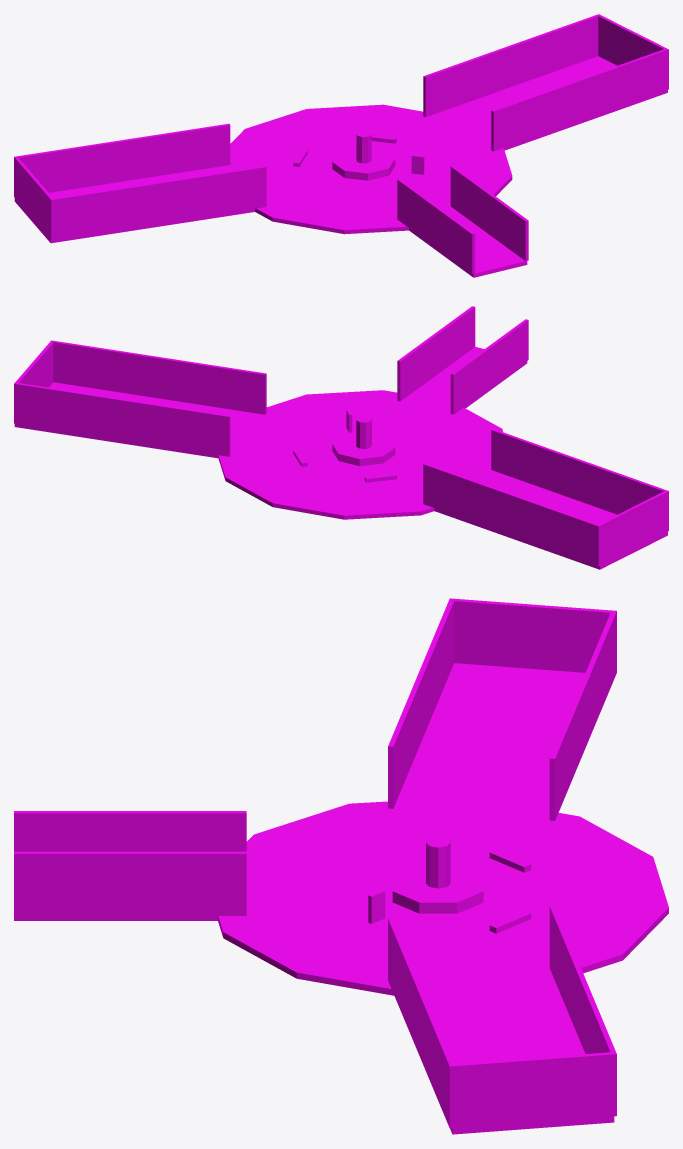
Rendered from lobby-collision.glb.
3 renders of one model, top to bottom at view 1: azimuth 30°, elevation 25°; view 2: azimuth 150°, elevation 25°; view 3: azimuth 270°, elevation 25°, orthographic. The views are drawn at different scales.
Visible parts, largest first — view 1: col-000, col-005, col-006, col-010, col-009, col-008, col-002, col-003, col-004, col-001, col-011, col-007 (+2 smaller); view 2: col-000, col-009, col-010, col-006, col-005, col-002, col-003, col-004, col-007, col-008, col-001, col-014 (+2 smaller); view 3: col-000, col-004, col-003, col-008, col-011, col-002, col-007, col-006, col-010, col-005, col-009, col-014 (+2 smaller).
Boxes of the visible parts, bbox=[...] form: col-000: bbox=[218, 104, 512, 234]; col-005: bbox=[50, 165, 266, 239]; col-006: bbox=[14, 123, 230, 196]; col-010: bbox=[491, 48, 668, 151]; col-009: bbox=[423, 14, 600, 117]; col-008: bbox=[429, 56, 667, 150]; col-002: bbox=[397, 179, 475, 274]; col-003: bbox=[450, 166, 528, 260]; col-004: bbox=[14, 166, 254, 243]; col-001: bbox=[390, 210, 527, 277]; col-011: bbox=[598, 14, 667, 65]; col-007: bbox=[14, 157, 52, 237]; col-000: bbox=[218, 390, 502, 519]; col-009: bbox=[14, 382, 230, 456]; col-010: bbox=[50, 340, 266, 414]; col-006: bbox=[423, 463, 600, 566]; col-005: bbox=[491, 429, 668, 531]; col-002: bbox=[450, 319, 528, 414]; col-003: bbox=[397, 306, 475, 401]; col-004: bbox=[434, 470, 667, 569]; col-007: bbox=[598, 491, 667, 564]; col-008: bbox=[14, 382, 255, 458]; col-001: bbox=[390, 347, 527, 420]; col-014: bbox=[332, 433, 395, 466]; col-000: bbox=[218, 797, 668, 995]; col-004: bbox=[393, 663, 585, 819]; col-003: bbox=[14, 851, 246, 915]; col-008: bbox=[420, 968, 614, 1134]; col-011: bbox=[452, 1052, 614, 1127]; col-002: bbox=[14, 811, 246, 851]; col-007: bbox=[452, 598, 613, 672]; col-006: bbox=[549, 610, 616, 820]; col-010: bbox=[388, 918, 455, 1128]; col-005: bbox=[388, 598, 454, 808]; col-009: bbox=[549, 906, 616, 1116]; col-014: bbox=[392, 864, 483, 913].
Bounding box in the file's own units: 80.94 × 5.5 × 47.85.
